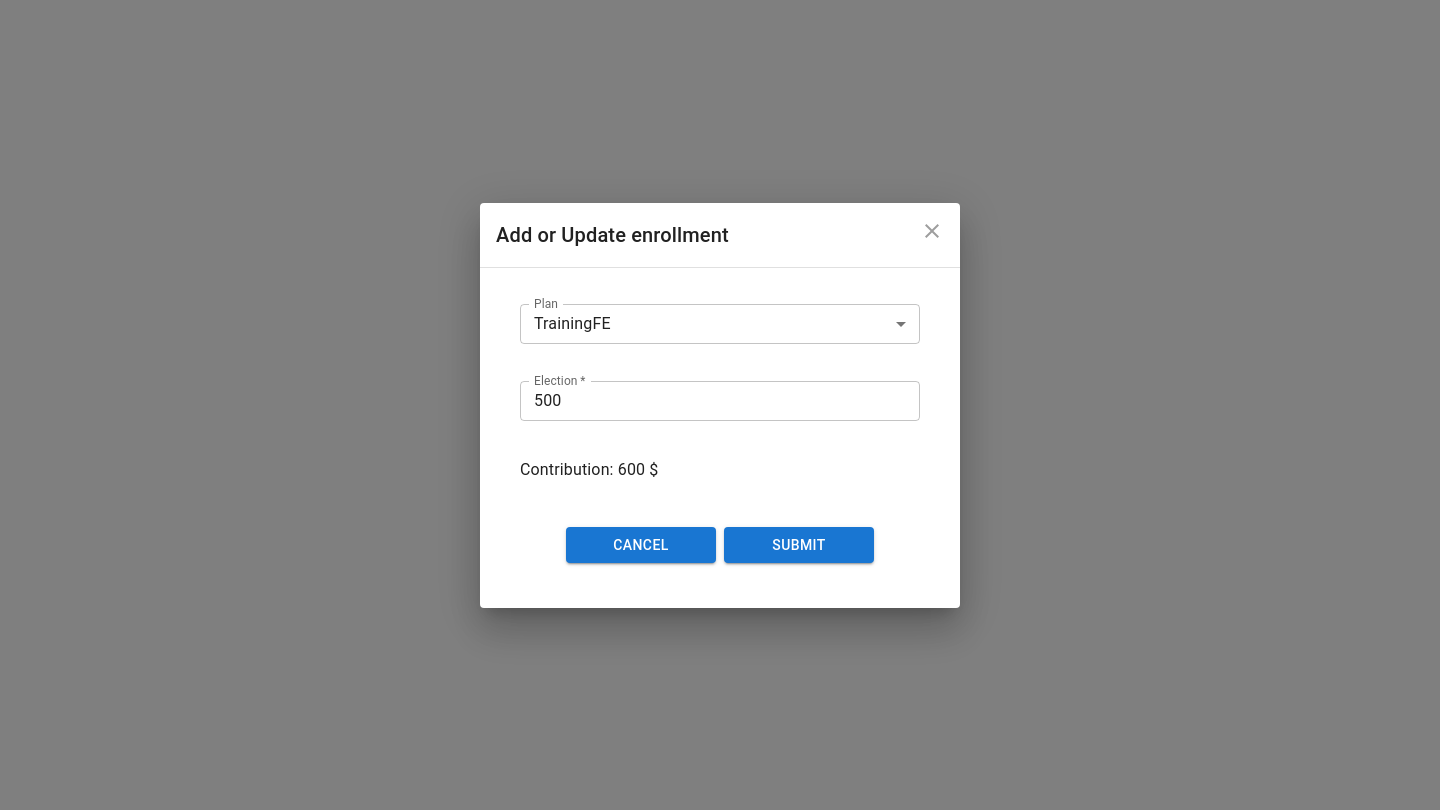
it: Enrollments dialog form › should close dialog form, and show success message when clicked on `Submit` button
Click the button "Submit": (799, 545) [724,527,874,564]
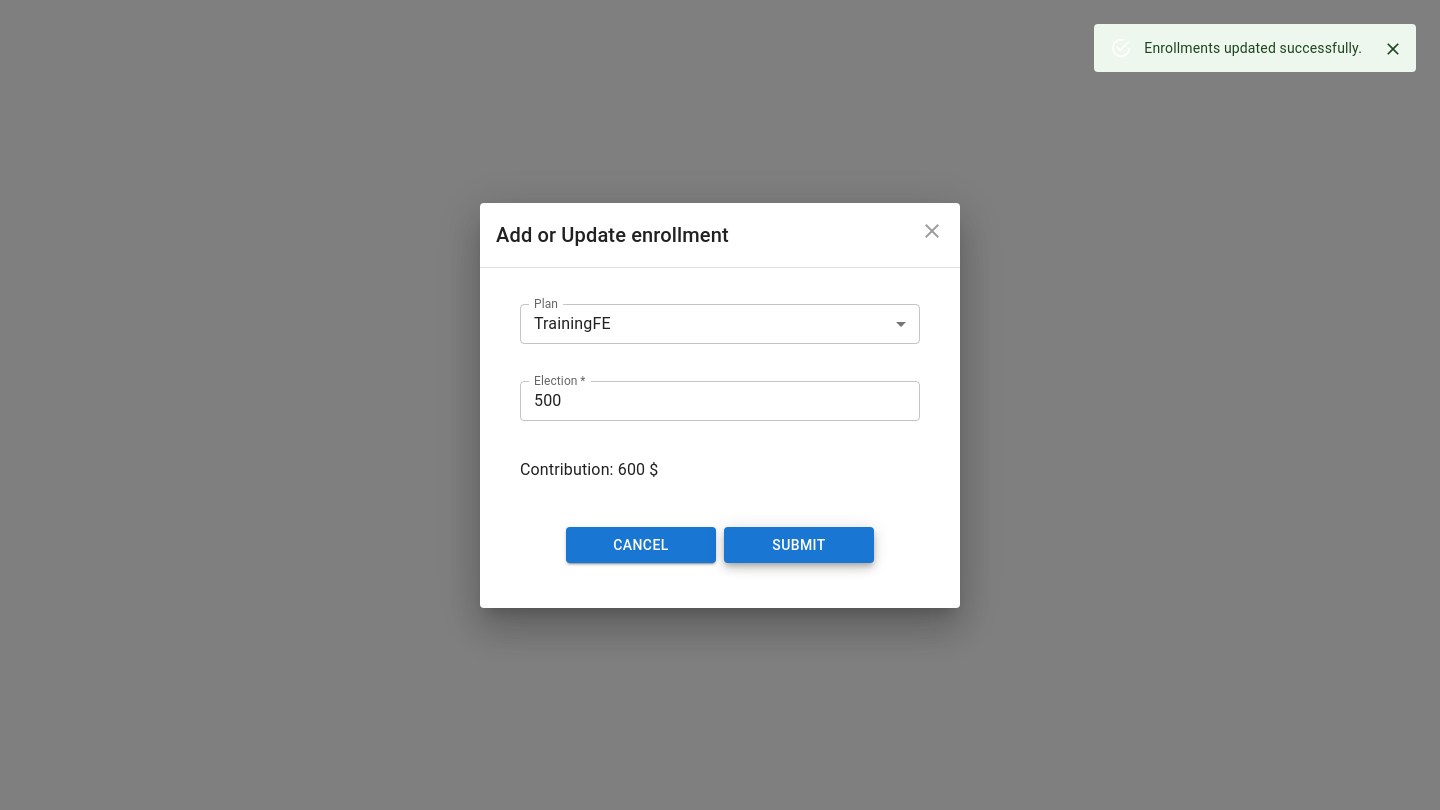
Result: the text "Enrollments updated successfully." is shown at [1144,40,1362,56]
